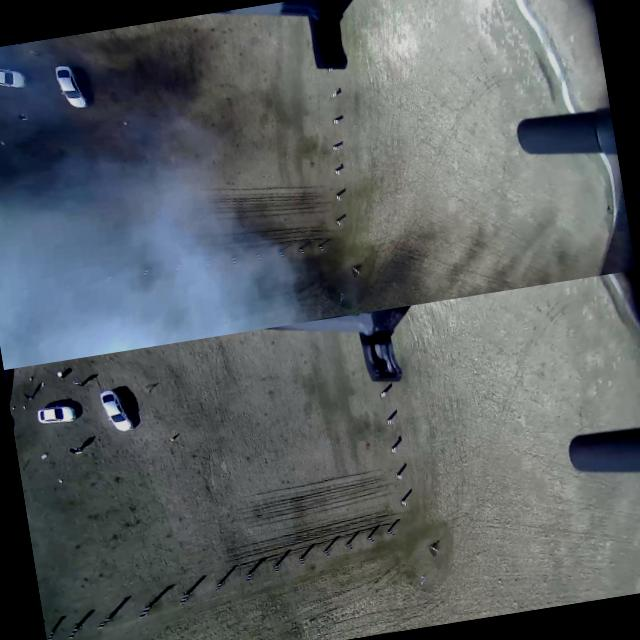car: (51, 61, 92, 112), (96, 384, 134, 433), (34, 394, 82, 428), (0, 60, 25, 94)
